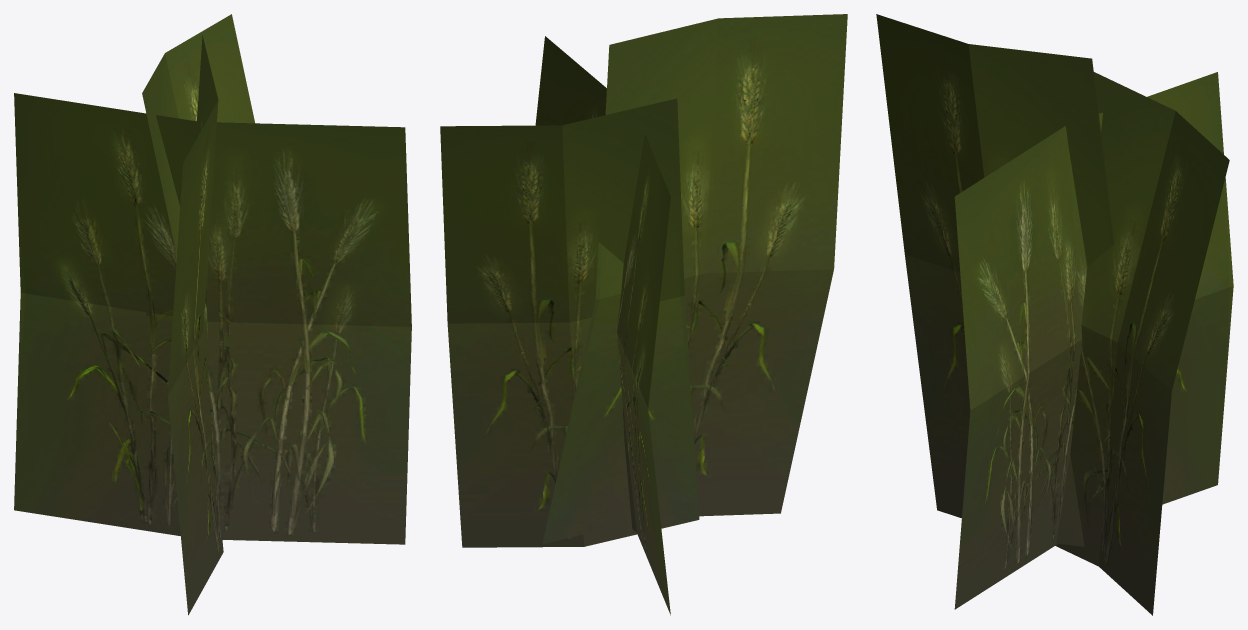
Rendered from bg_anh_foliage_crops16_sm_ksy.FBX.
The picture shows the model from 3 angles, left to right: view 1: azimuth 30°, elevation 25°; view 2: azimuth 150°, elevation 25°; view 3: azimuth 270°, elevation 25°; orthographic projection.
Visible parts, largest first — view 1: bg_anh_foliage_crops16_sm_ksy; view 2: bg_anh_foliage_crops16_sm_ksy; view 3: bg_anh_foliage_crops16_sm_ksy.
Part boxes in pixels (x1,y1,x2,y2): bg_anh_foliage_crops16_sm_ksy: (14, 14, 411, 615); bg_anh_foliage_crops16_sm_ksy: (440, 14, 847, 615); bg_anh_foliage_crops16_sm_ksy: (876, 14, 1233, 615).
Bounding box in the file's own units: 72.57 × 127 × 81.82.
